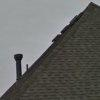Chimney: (6, 46, 30, 83)
